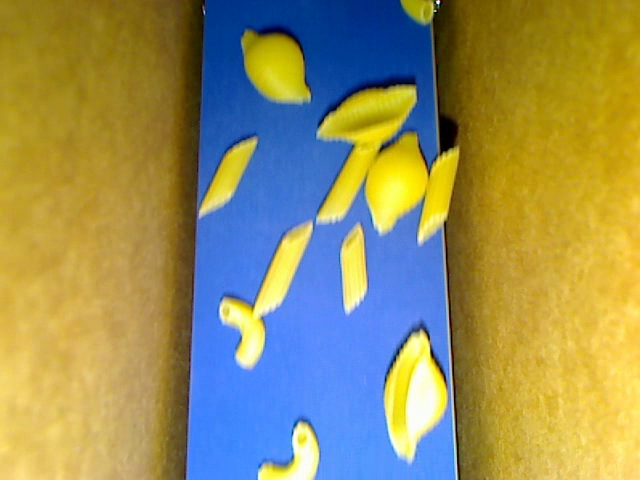elbow: (257, 419, 321, 479), (218, 296, 264, 370), (402, 1, 433, 26)
penne: (252, 220, 313, 320), (315, 137, 381, 223), (197, 134, 257, 217), (417, 145, 461, 245), (339, 222, 368, 314)
shell: (383, 327, 449, 465), (364, 131, 429, 235), (314, 84, 418, 145), (240, 29, 310, 103)
